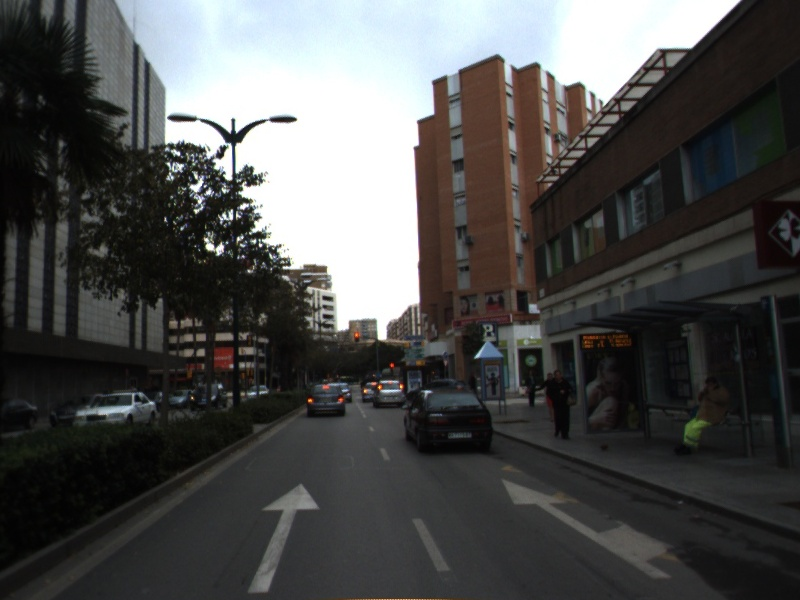STRAIGHT: (245, 481, 322, 595)
STRAIGHT_RIGHT: (499, 476, 676, 581)
